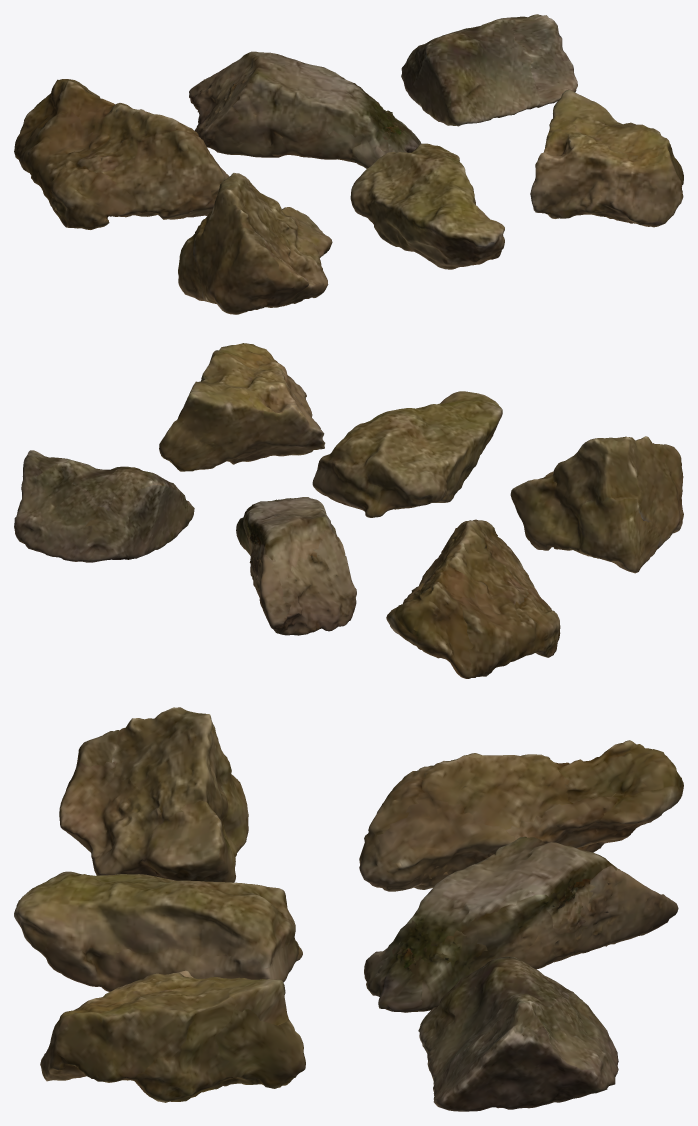
Rendered from rock_moss_set_01.glb.
3 views of the same model, one above another, from view 1: azimuth 30°, elevation 25°; view 2: azimuth 150°, elevation 25°; view 3: azimuth 270°, elevation 25° (orthographic). The views are drawn at different scales.
Parts seen in each view (by area): view 1: rock_moss_set_01_rock01, rock_moss_set_01_rock02, rock_moss_set_01_rock06, rock_moss_set_01_rock04, rock_moss_set_01_rock03, rock_moss_set_01_rock05; view 2: rock_moss_set_01_rock04, rock_moss_set_01_rock01, rock_moss_set_01_rock05, rock_moss_set_01_rock03, rock_moss_set_01_rock06, rock_moss_set_01_rock02; view 3: rock_moss_set_01_rock01, rock_moss_set_01_rock02, rock_moss_set_01_rock05, rock_moss_set_01_rock04, rock_moss_set_01_rock06, rock_moss_set_01_rock03.
Part boxes in pixels (x1=…): rock_moss_set_01_rock01: x1=14, y1=79, x2=229, y2=229; rock_moss_set_01_rock02: x1=189, y1=51, x2=421, y2=168; rock_moss_set_01_rock06: x1=530, y1=89, x2=683, y2=227; rock_moss_set_01_rock04: x1=178, y1=173, x2=332, y2=314; rock_moss_set_01_rock03: x1=401, y1=14, x2=577, y2=126; rock_moss_set_01_rock05: x1=350, y1=143, x2=504, y2=269; rock_moss_set_01_rock04: x1=510, y1=436, x2=683, y2=573; rock_moss_set_01_rock01: x1=386, y1=519, x2=560, y2=678; rock_moss_set_01_rock05: x1=312, y1=391, x2=502, y2=517; rock_moss_set_01_rock03: x1=14, y1=450, x2=194, y2=562; rock_moss_set_01_rock06: x1=159, y1=343, x2=325, y2=471; rock_moss_set_01_rock02: x1=236, y1=497, x2=356, y2=635; rock_moss_set_01_rock01: x1=359, y1=740, x2=683, y2=891; rock_moss_set_01_rock02: x1=364, y1=836, x2=678, y2=1012; rock_moss_set_01_rock05: x1=14, y1=871, x2=302, y2=991; rock_moss_set_01_rock04: x1=59, y1=707, x2=248, y2=882; rock_moss_set_01_rock06: x1=40, y1=970, x2=305, y2=1102; rock_moss_set_01_rock03: x1=418, y1=956, x2=618, y2=1111.
Size of the model in its own units: 8 by 1.77 by 6.95.
1 material, 1 textured.
